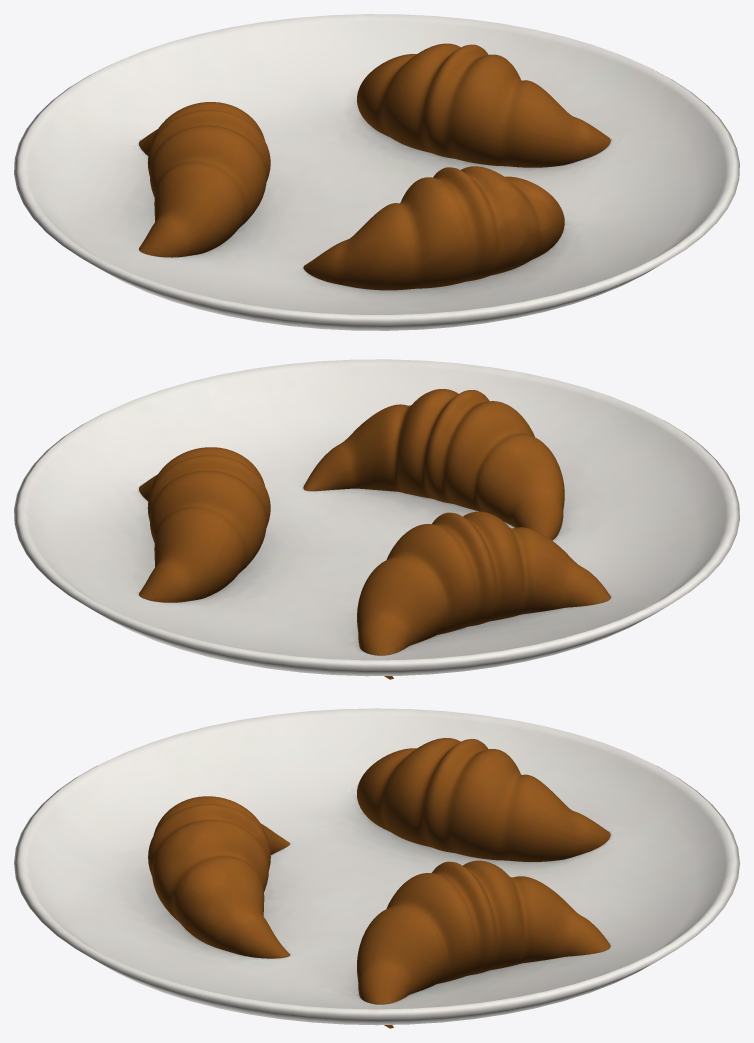
File: three-on-plate.glb
3 renders of one model, top to bottom at view 1: azimuth 30°, elevation 25°; view 2: azimuth 150°, elevation 25°; view 3: azimuth 270°, elevation 25°, orthographic.
Parts seen in each view (by area): view 1: ceramic_white, croissant; view 2: ceramic_white, croissant; view 3: ceramic_white, croissant.
Boxes of the visible parts, x1,y1,x2,y2 form: ceramic_white: (14,14,739,330); croissant: (139,43,610,290); ceramic_white: (14,359,739,676); croissant: (139,389,610,679); ceramic_white: (14,708,739,1025); croissant: (148,738,610,1028).
Size of the model in its own units: 0.26 by 0.0431 by 0.26.
Materials: 2 (2 with a texture image).
